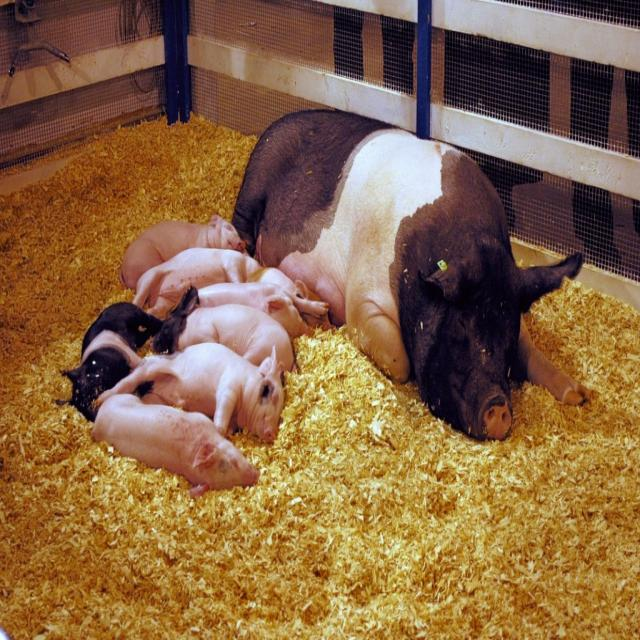Pig: (55, 110, 594, 499)
